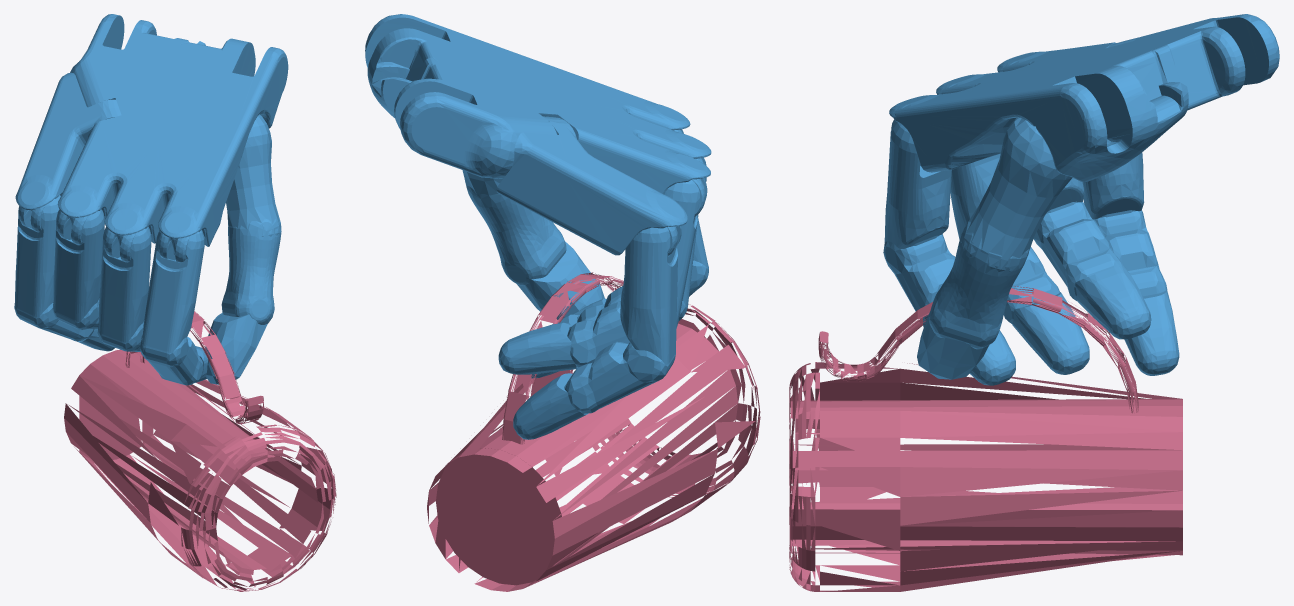
3 views of the same model, side by side, from view 1: azimuth 30°, elevation 25°; view 2: azimuth 150°, elevation 25°; view 3: azimuth 270°, elevation 25° (orthographic). The views are drawn at different scales.
Parts seen in each view (by area): view 1: 5; view 2: 5; view 3: 5.
Part boxes in pixels (<box>): 5: <box>14,14,336,591</box>; 5: <box>365,14,760,591</box>; 5: <box>789,14,1279,591</box>.
Bounding box in the file's own units: 0.1249 × 0.201 × 0.1548.
